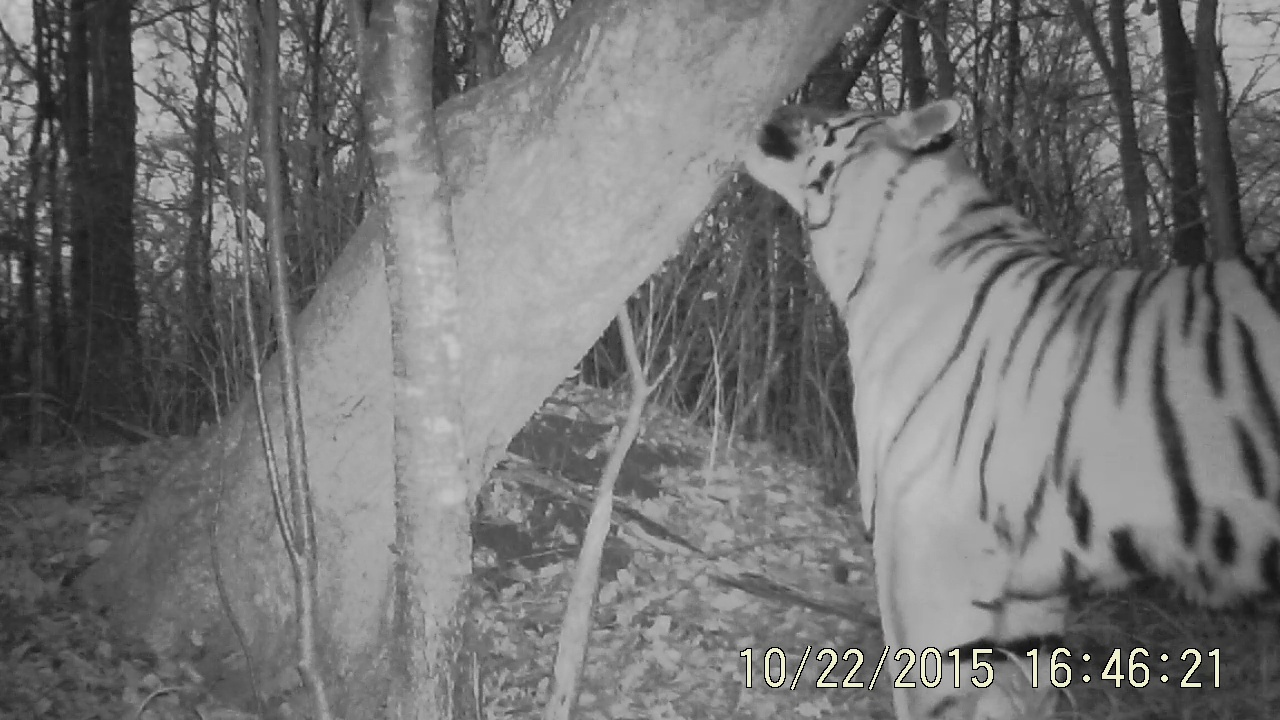Tiger: (709, 56, 1280, 636)
